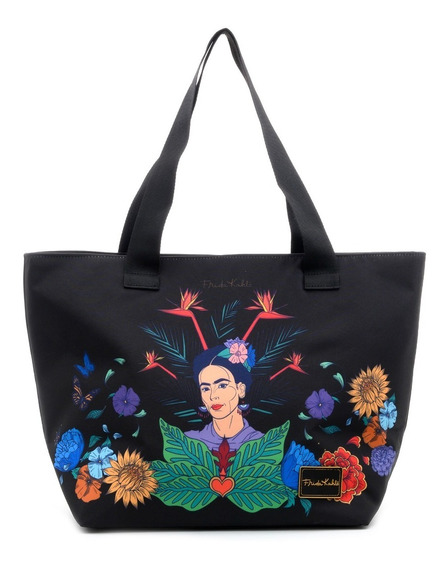cartera: (23, 26, 427, 532)
